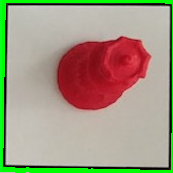Red Queen: (54, 33, 153, 114)
